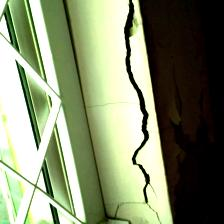High: (93, 1, 166, 224)
